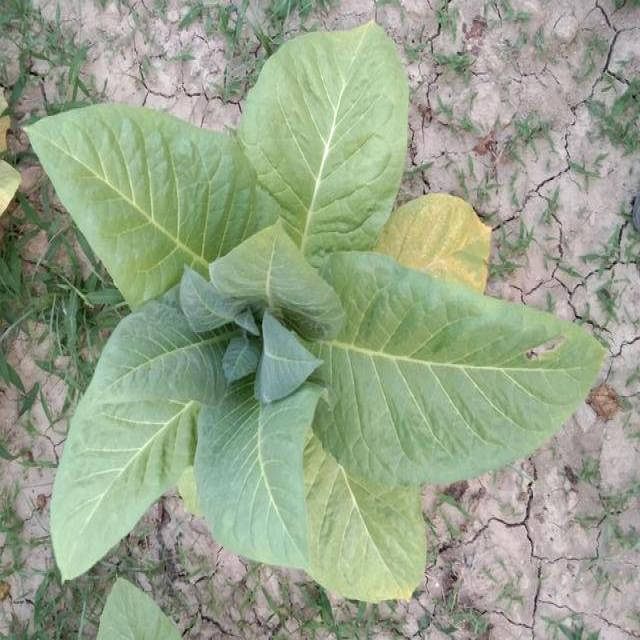crop: (20, 22, 605, 602)
